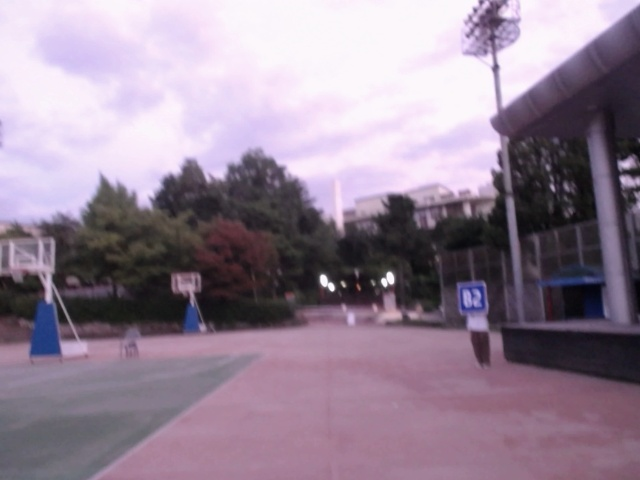delivery_b2: (457, 281, 489, 316)
